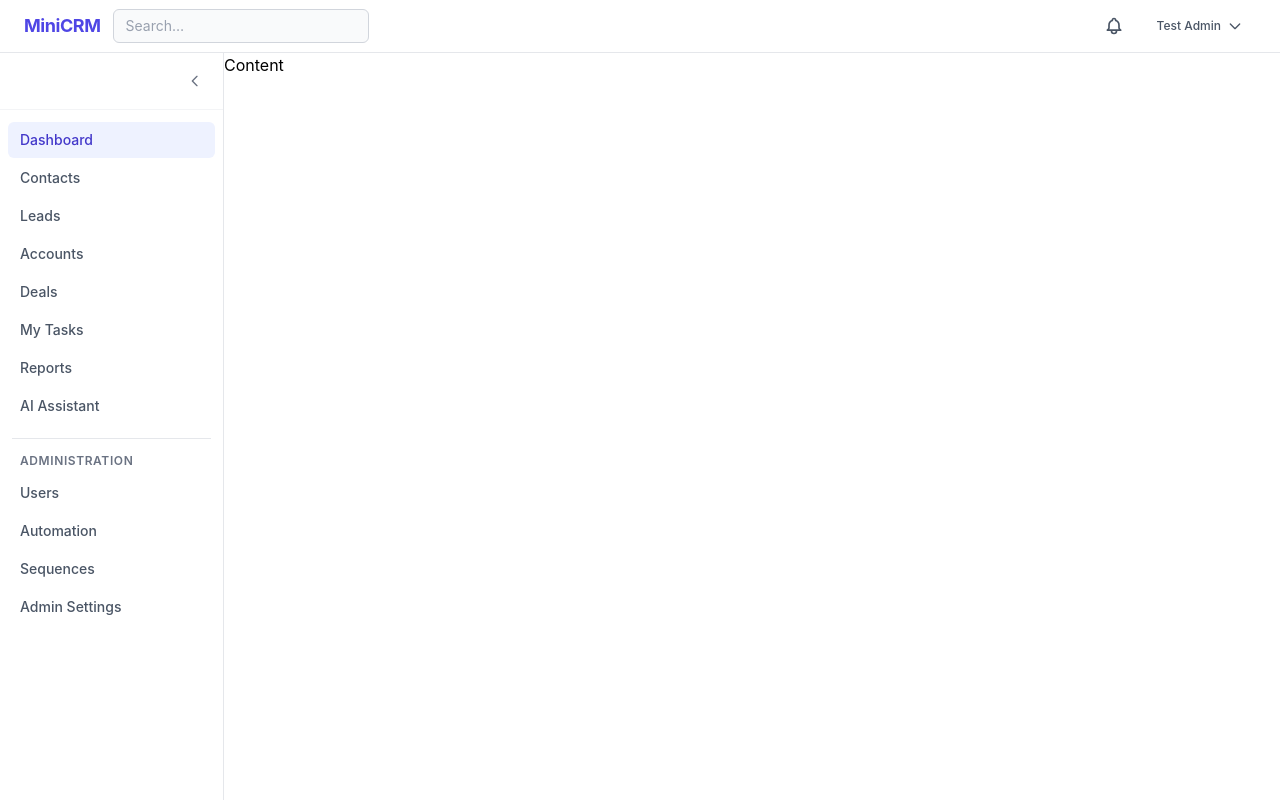
Test: NavLeft › collapse toggle › clicking collapse toggle hides the nav link labels
expect the link with test id "nav-left-contacts" reads "Contacts": met, box x1=20 y1=169 x2=80 y2=186
Click the button with test id "nav-left-collapse-toggle".
click(195, 81)  # box x1=179 y1=65 x2=211 y2=97
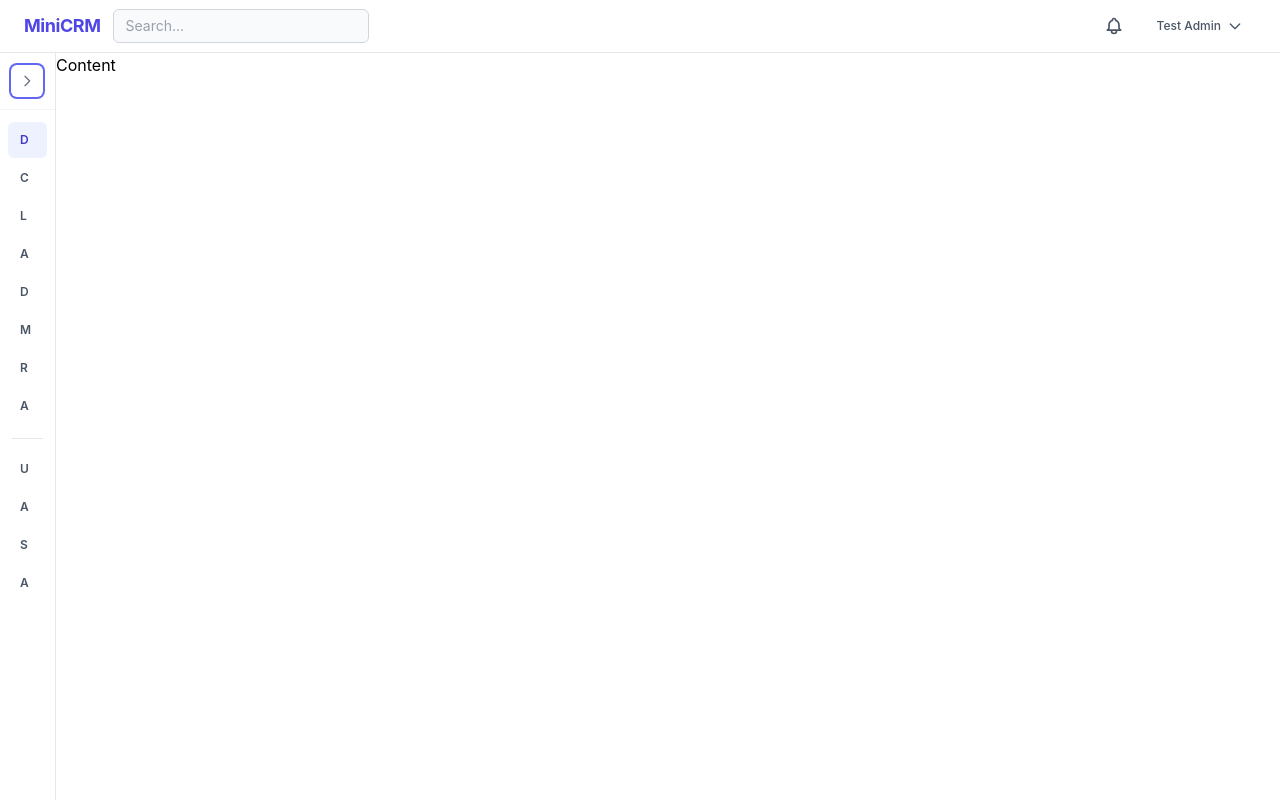
expect the link with test id "nav-left-contacts" no longer shows "Contacts": met, box x1=20 y1=170 x2=29 y2=185
